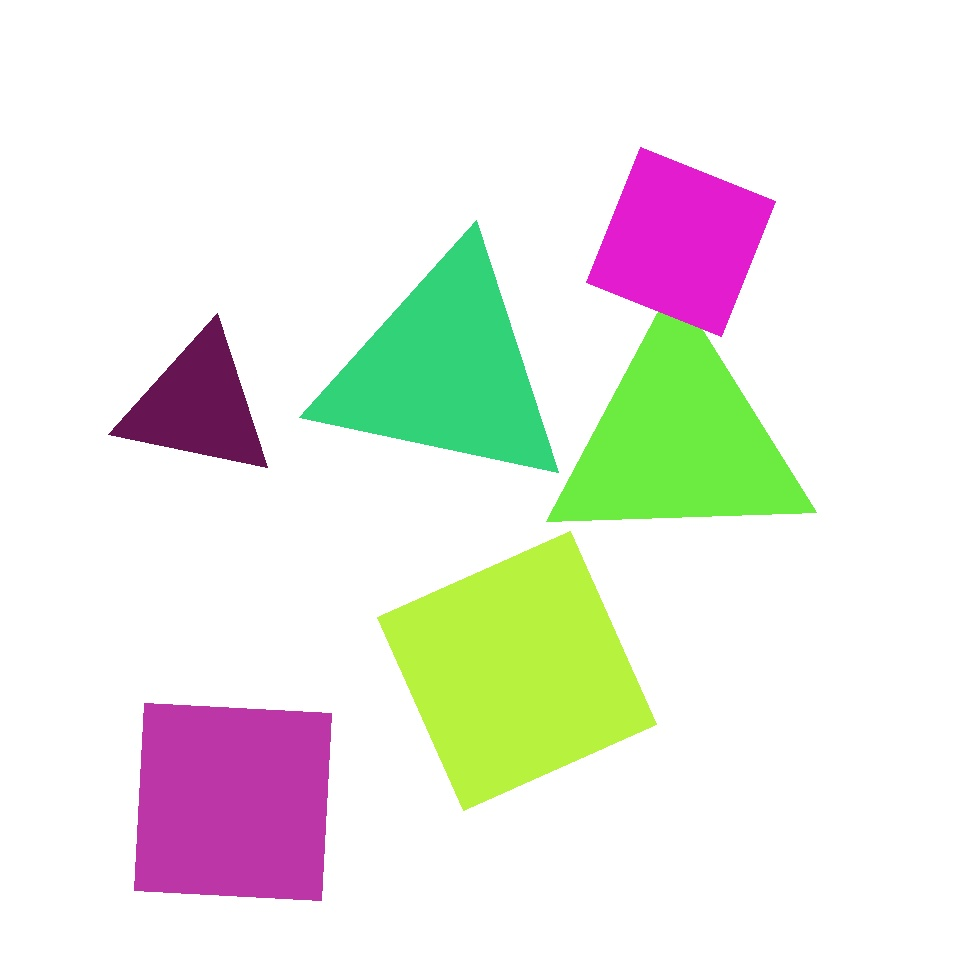circle: (316, 244, 574, 496), (544, 320, 814, 558), (135, 265, 395, 511), (118, 328, 278, 482)
square: (378, 532, 656, 810), (134, 704, 332, 900), (586, 147, 775, 336)
triangle: (544, 312, 854, 622), (610, 586, 870, 846)
